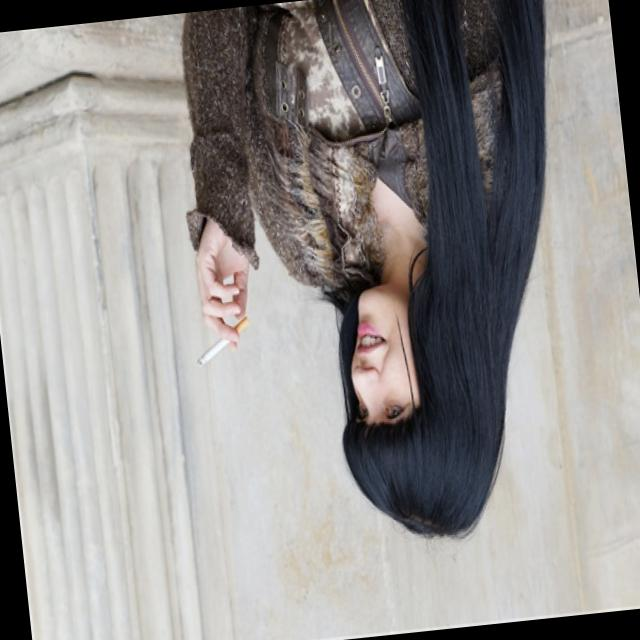cigarette: (189, 312, 255, 368)
